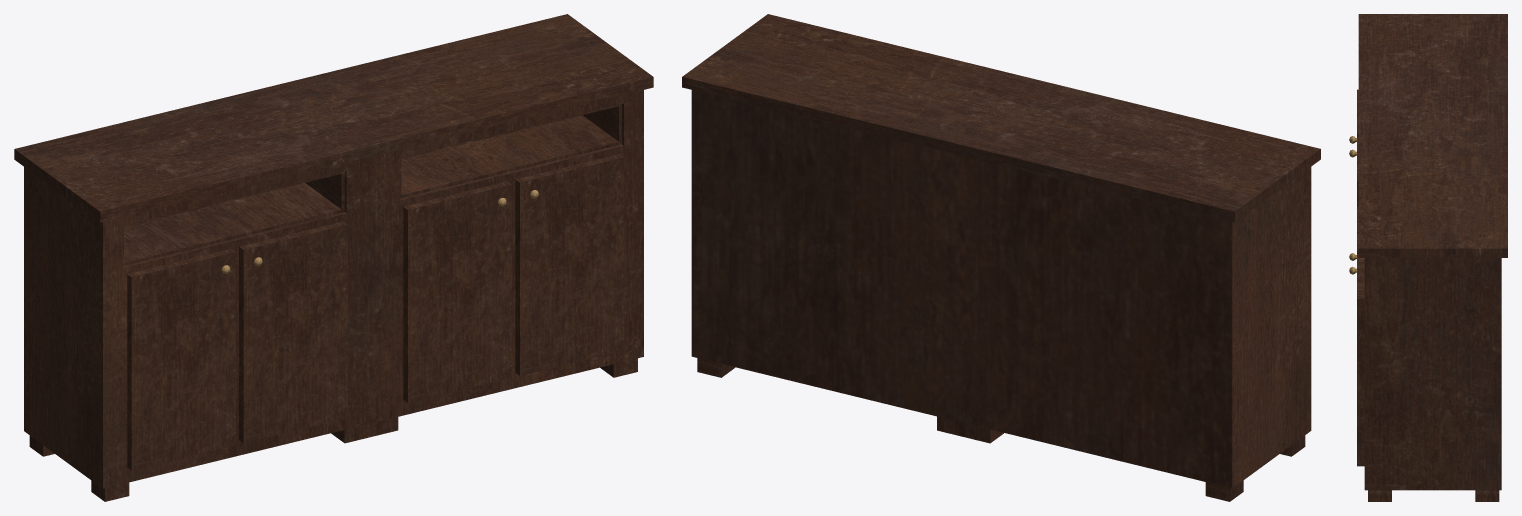
File: office cabinet.FBX
3 views of the same model, side by side, from view 1: azimuth 30°, elevation 25°; view 2: azimuth 150°, elevation 25°; view 3: azimuth 270°, elevation 25° (orthographic). The views are drawn at different scales.
Parts seen in each view (by area): view 1: office cabinet; view 2: office cabinet; view 3: office cabinet.
Boxes of the visible parts, bbox=[...] form: office cabinet: bbox=[14, 14, 653, 501]; office cabinet: bbox=[682, 14, 1320, 501]; office cabinet: bbox=[1349, 14, 1507, 501].
Size of the model in its own units: 181 by 92.86 by 51.85.
1 material, 1 textured.
